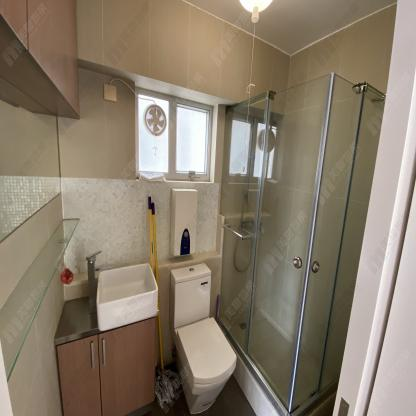Exhaust Fan: (141, 100, 168, 141)
Faucet: (81, 249, 113, 314)
Toilet: (169, 262, 237, 414)
Toilet Sink: (96, 263, 158, 332)
Water Cubicle: (216, 74, 385, 416)
Water Heater: (169, 188, 197, 255)
